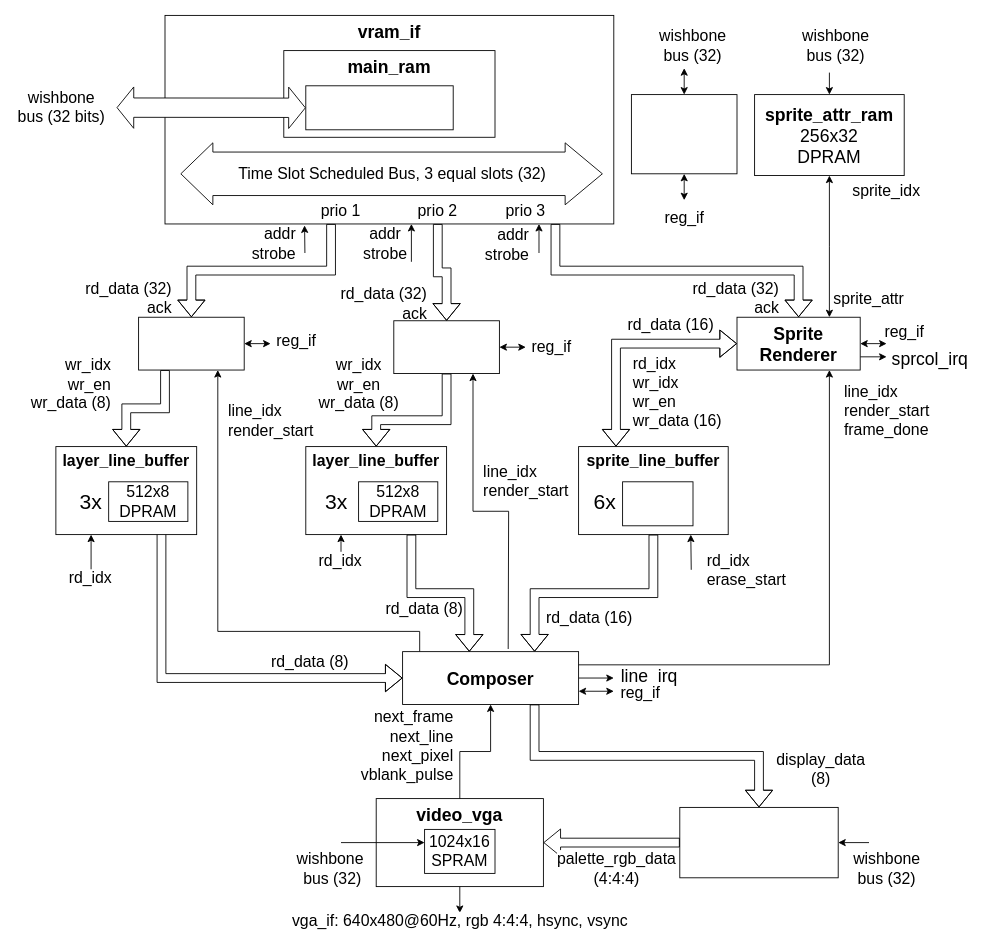
This 983x946 diagram has some shape labels left out. Each missing label, with the centre of its shape:
128KB DPRAM: the point at 379,107
256x16 DPRAM: the point at 657,503
Layer 0 Renderer: the point at 191,343
Layer 1 Renderer: the point at 446,347
palette_ram 256x16 DPRAM: the point at 758,842
vera_top registers: the point at 684,134
